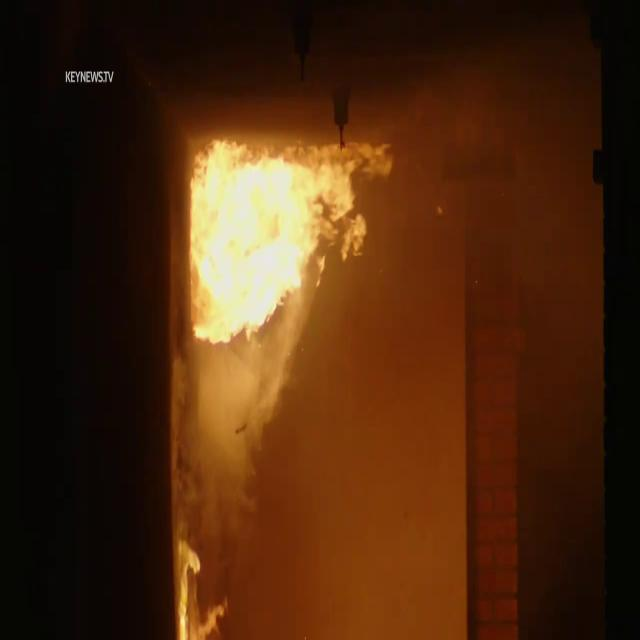Fire: (184, 136, 352, 395)
